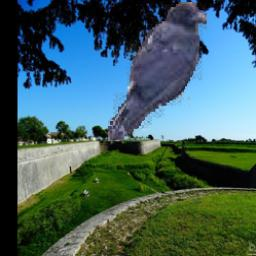Crow: (108, 3, 207, 142)
